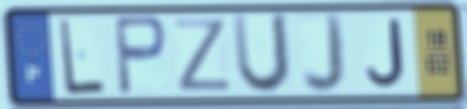J: (300, 10, 348, 97), (363, 16, 408, 90)
L: (57, 16, 107, 97)
P: (111, 13, 171, 99)
U: (229, 11, 293, 98)
Z: (171, 17, 236, 94)
